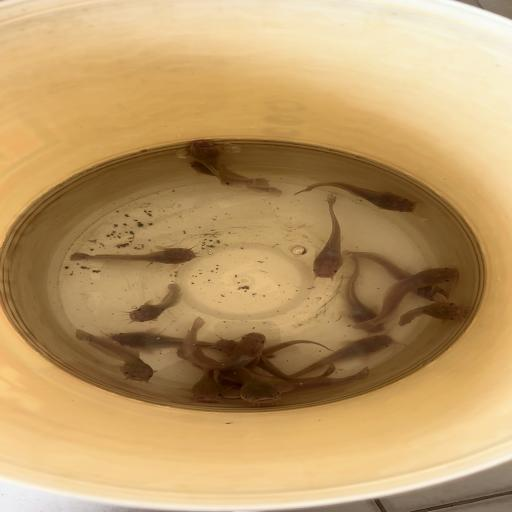lele: (352, 267, 460, 331), (346, 251, 450, 303), (214, 338, 336, 381), (106, 329, 278, 359), (73, 328, 156, 385), (180, 317, 268, 370), (292, 334, 394, 378), (184, 140, 272, 188), (293, 180, 417, 212), (342, 250, 388, 333), (188, 160, 284, 198), (312, 192, 344, 278), (176, 349, 224, 404), (124, 283, 182, 324), (69, 248, 196, 264), (396, 300, 465, 327), (261, 339, 334, 359), (241, 377, 282, 405)
